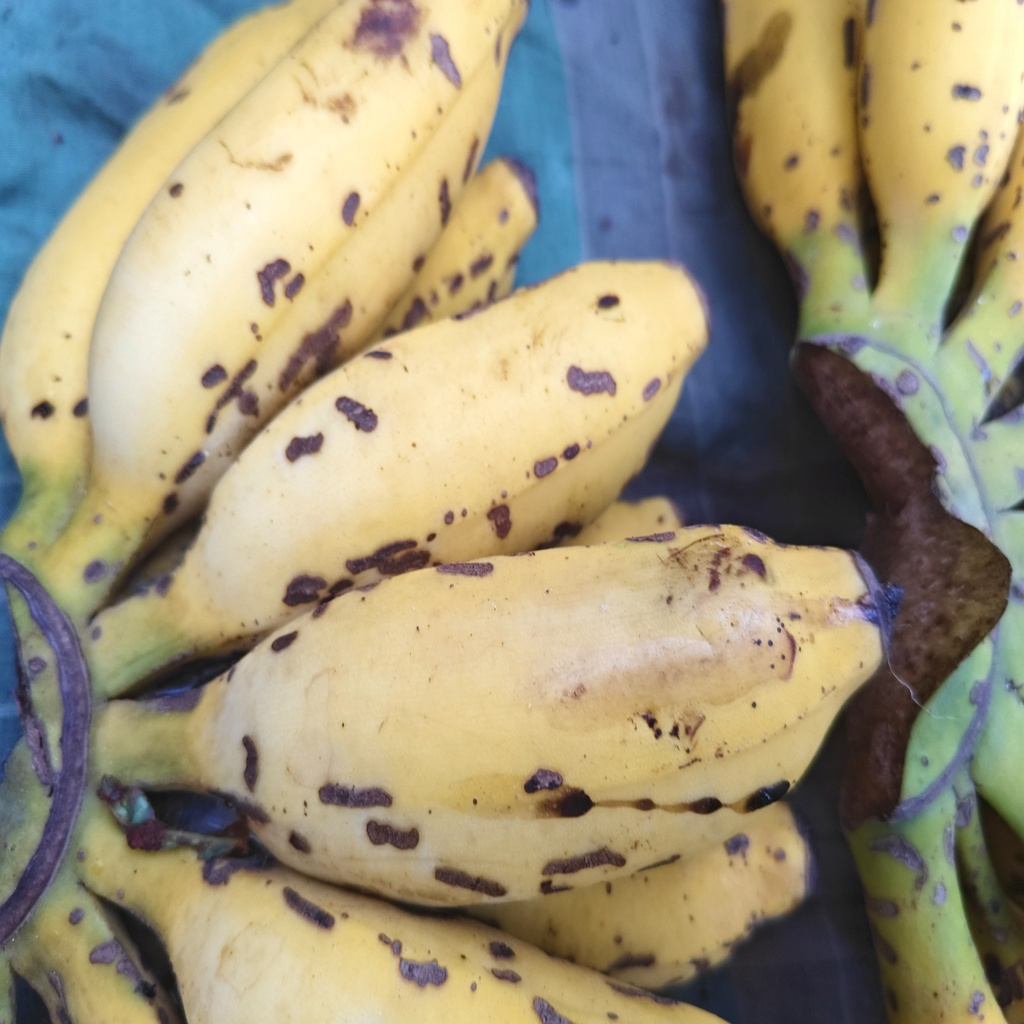unhealthy: (166, 520, 896, 907), (86, 1, 531, 508), (190, 255, 699, 676)
